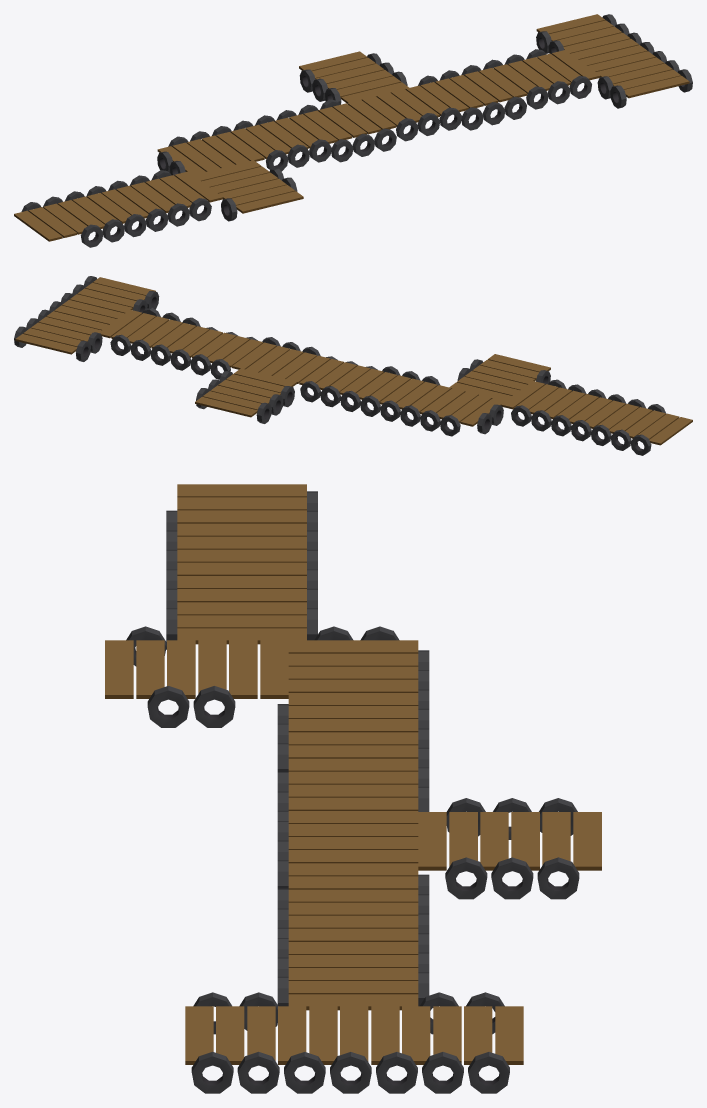
Rendered from SM_Muelle.fbx.
3 views of the same model, one above another, from view 1: azimuth 30°, elevation 25°; view 2: azimuth 150°, elevation 25°; view 3: azimuth 270°, elevation 25° (orthographic). The views are drawn at different scales.
Visible parts, largest first — view 1: maderasSuelo.002, ruedas.0; view 2: maderasSuelo.002, ruedas.0; view 3: maderasSuelo.002, ruedas.0.
Boxes of the visible parts, box(x1,y1,x2,y2) form: maderasSuelo.002: box(14, 14, 689, 241); ruedas.0: box(21, 14, 692, 247); maderasSuelo.002: box(15, 277, 692, 445); ruedas.0: box(14, 276, 666, 455); maderasSuelo.002: box(105, 484, 601, 1064); ruedas.0: box(126, 491, 579, 1093).
Bounding box in the file's own units: 2246 × 84.23 × 811.
